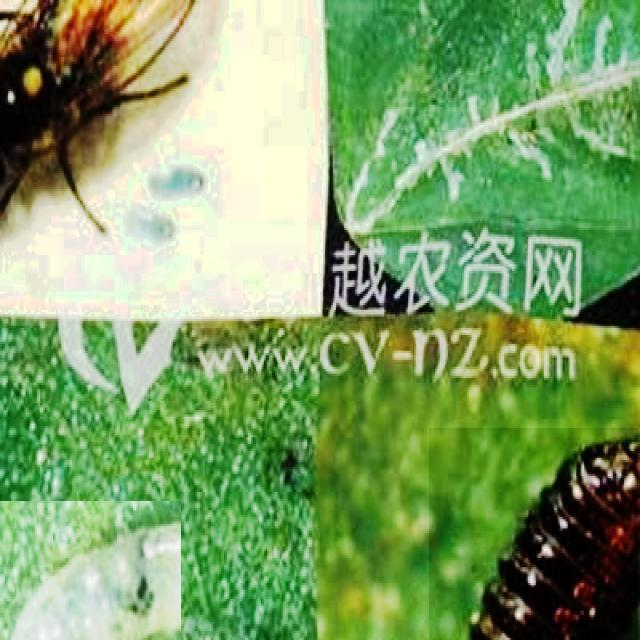whorl-maggot: (429, 428, 638, 640), (0, 501, 181, 640)
